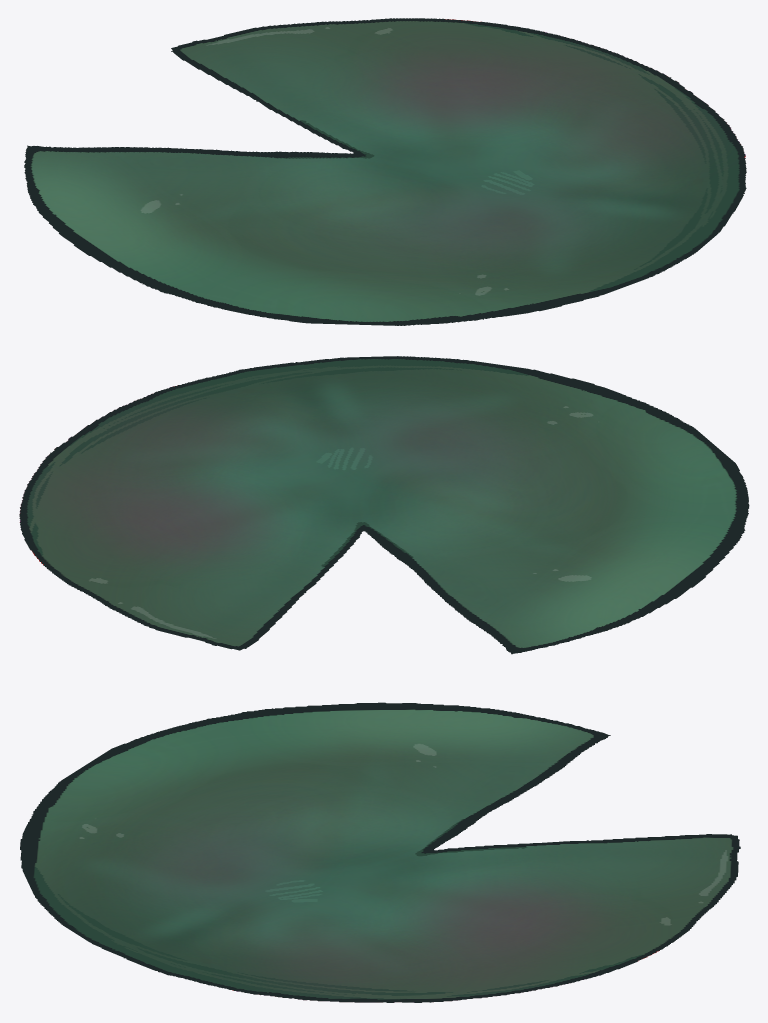
File: a1_lilypad.fbx
The picture shows the model from 3 angles, top to bottom: view 1: azimuth 30°, elevation 25°; view 2: azimuth 150°, elevation 25°; view 3: azimuth 270°, elevation 25°; orthographic projection.
Parts seen in each view (by area): view 1: Circle; view 2: Circle; view 3: Circle.
Part boxes in pixels (x1,y1,x2,y2): Circle: [24, 18, 746, 325]; Circle: [19, 356, 749, 654]; Circle: [20, 702, 740, 1002].
Bounding box in the file's own units: 200 × 3.26e-05 × 200.
1 material, 1 textured.
